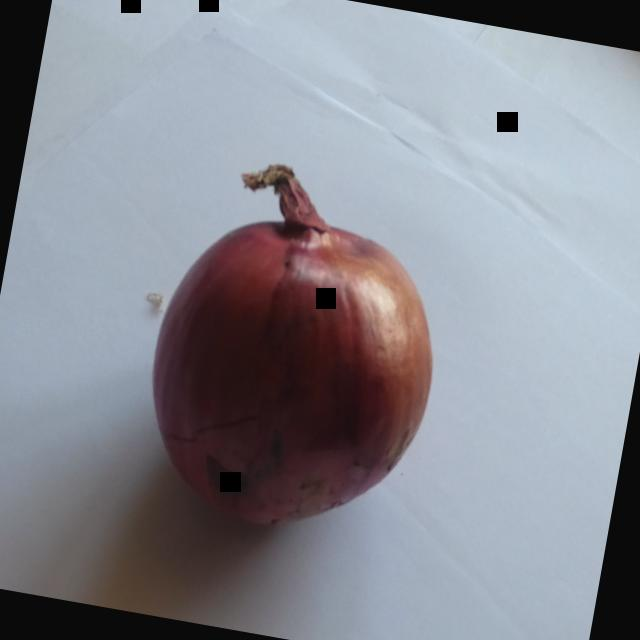Onion: (74, 109, 504, 591)
